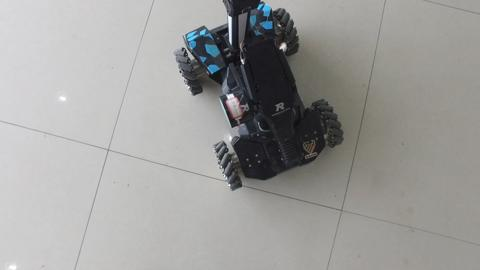chariot: (163, 4, 332, 180)
